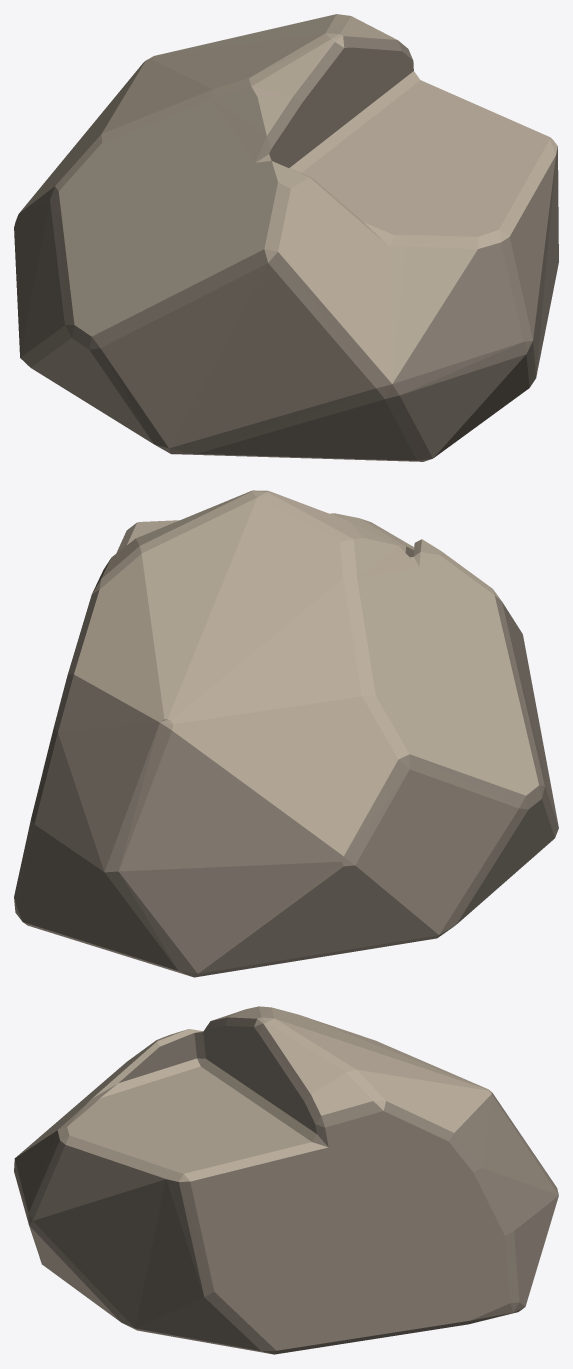
3 renders of one model, top to bottom at view 1: azimuth 30°, elevation 25°; view 2: azimuth 150°, elevation 25°; view 3: azimuth 270°, elevation 25°, orthographic. The views are drawn at different scales.
Parts seen in each view (by area): view 1: rock; view 2: rock; view 3: rock.
Boxes of the visible parts, <box> form: rock: <box>14,14,558,461</box>; rock: <box>14,490,558,977</box>; rock: <box>14,1006,558,1354</box>.
Bounding box in the file's own units: 2.2 × 1.5 × 2.8.
